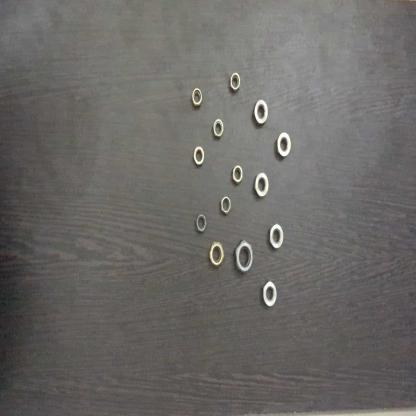NUTS: (233, 235, 256, 277), (252, 94, 270, 130), (275, 126, 293, 160), (252, 168, 270, 201), (267, 216, 284, 250), (262, 278, 279, 311), (209, 238, 226, 269), (228, 64, 241, 102), (219, 192, 232, 221), (230, 161, 244, 187), (211, 117, 226, 139), (190, 87, 205, 109), (195, 210, 208, 235), (192, 144, 204, 168)
